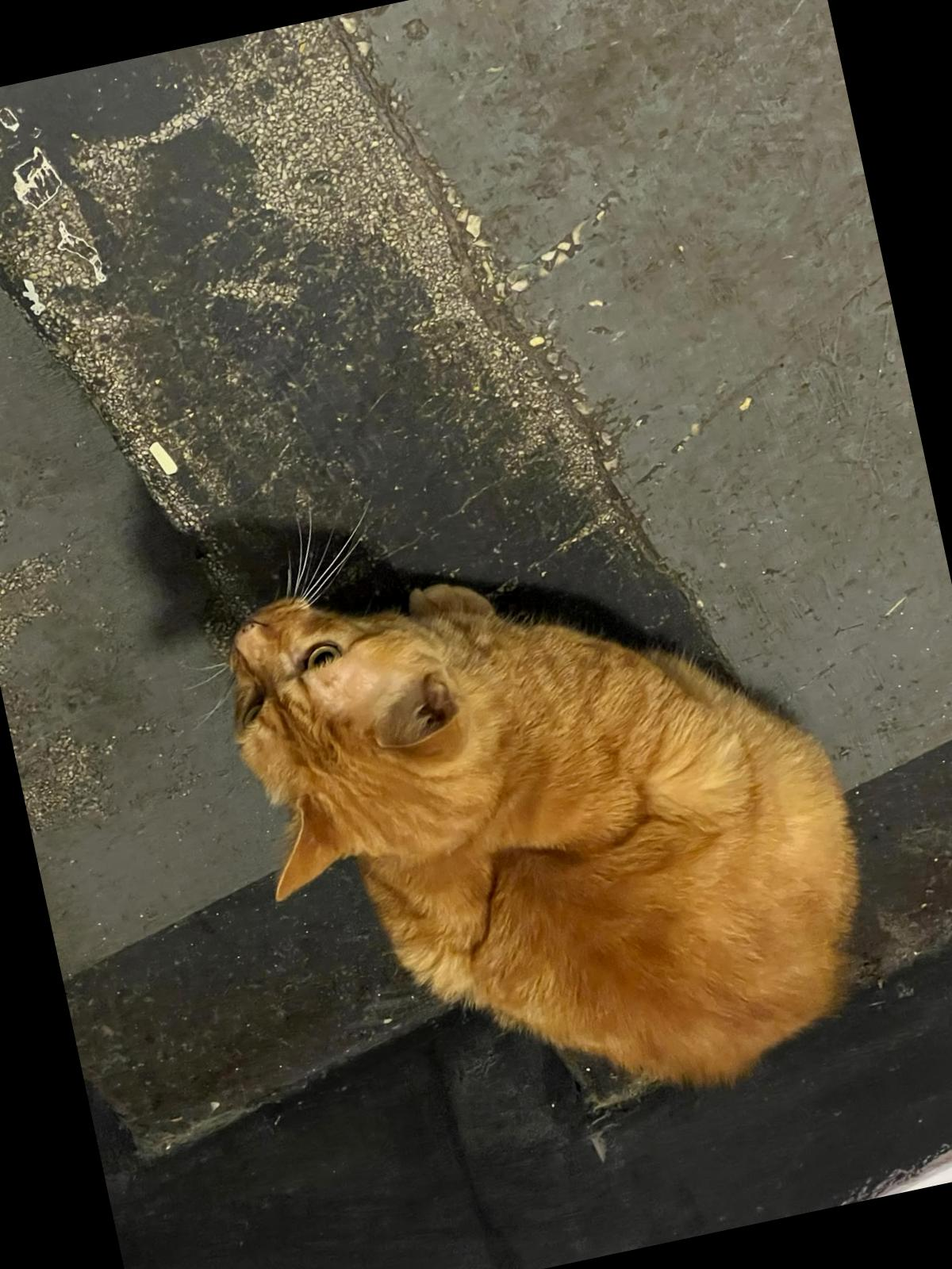macka: (202, 493, 903, 1171)
